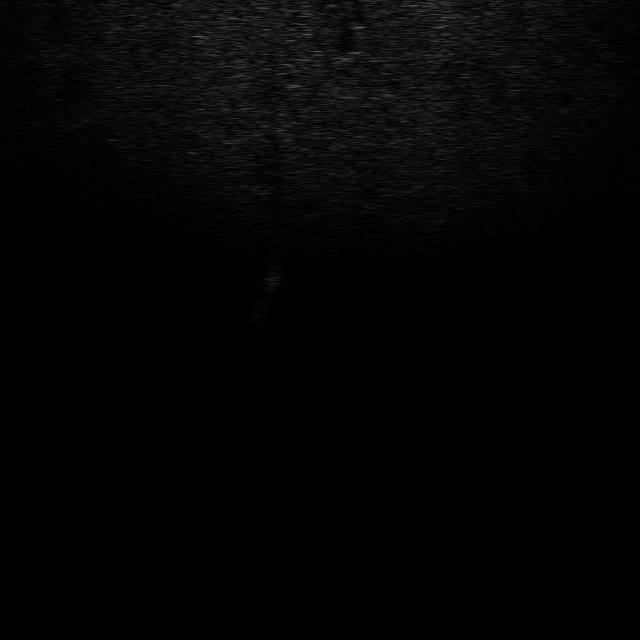human body: (242, 262, 292, 323)
